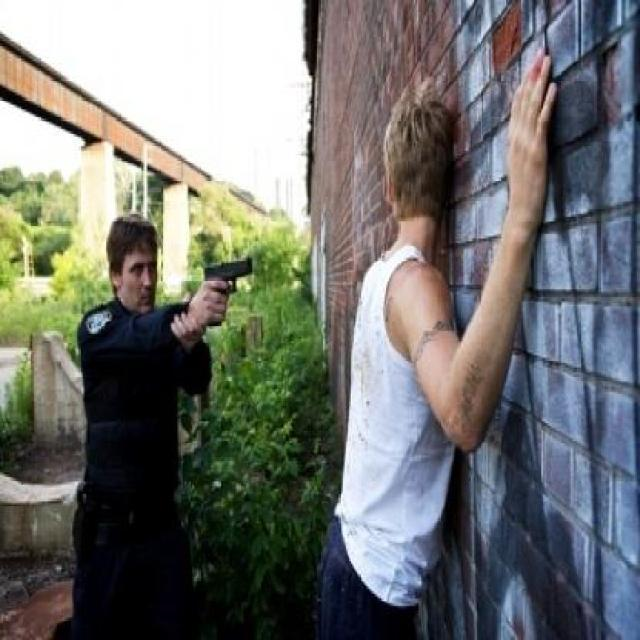gun: (190, 231, 264, 304)
